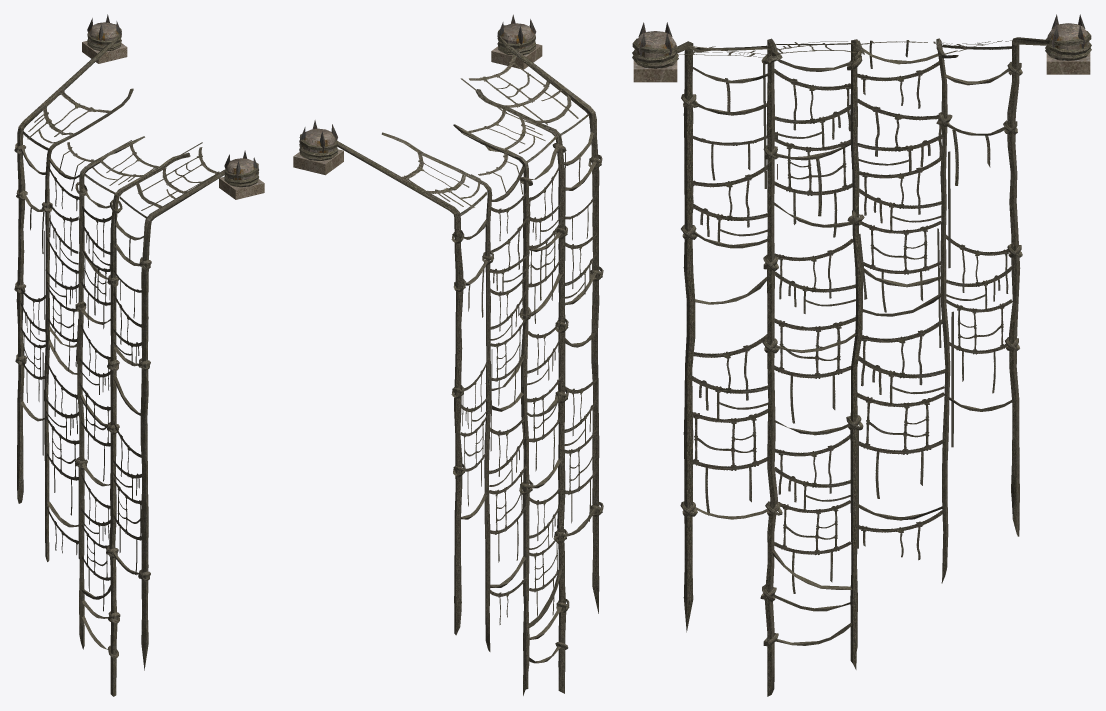
The model's file is bg_lut_lutomb_net01_sm_kdh.FBX.
The picture shows the model from 3 angles, left to right: view 1: azimuth 30°, elevation 25°; view 2: azimuth 150°, elevation 25°; view 3: azimuth 270°, elevation 25°; orthographic projection. The views are drawn at different scales.
Parts seen in each view (by area): view 1: bg_lut_lutomb_net01_sm_kdh; view 2: bg_lut_lutomb_net01_sm_kdh; view 3: bg_lut_lutomb_net01_sm_kdh.
Part boxes in pixels (x1=…): bg_lut_lutomb_net01_sm_kdh: x1=14, y1=14, x2=264, y2=696; bg_lut_lutomb_net01_sm_kdh: x1=293, y1=14, x2=603, y2=695; bg_lut_lutomb_net01_sm_kdh: x1=632, y1=14, x2=1091, y2=696.
Bounding box in the file's own units: 284 × 1228 × 687.
